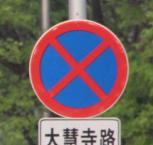No Parking: (30, 20, 127, 120)
